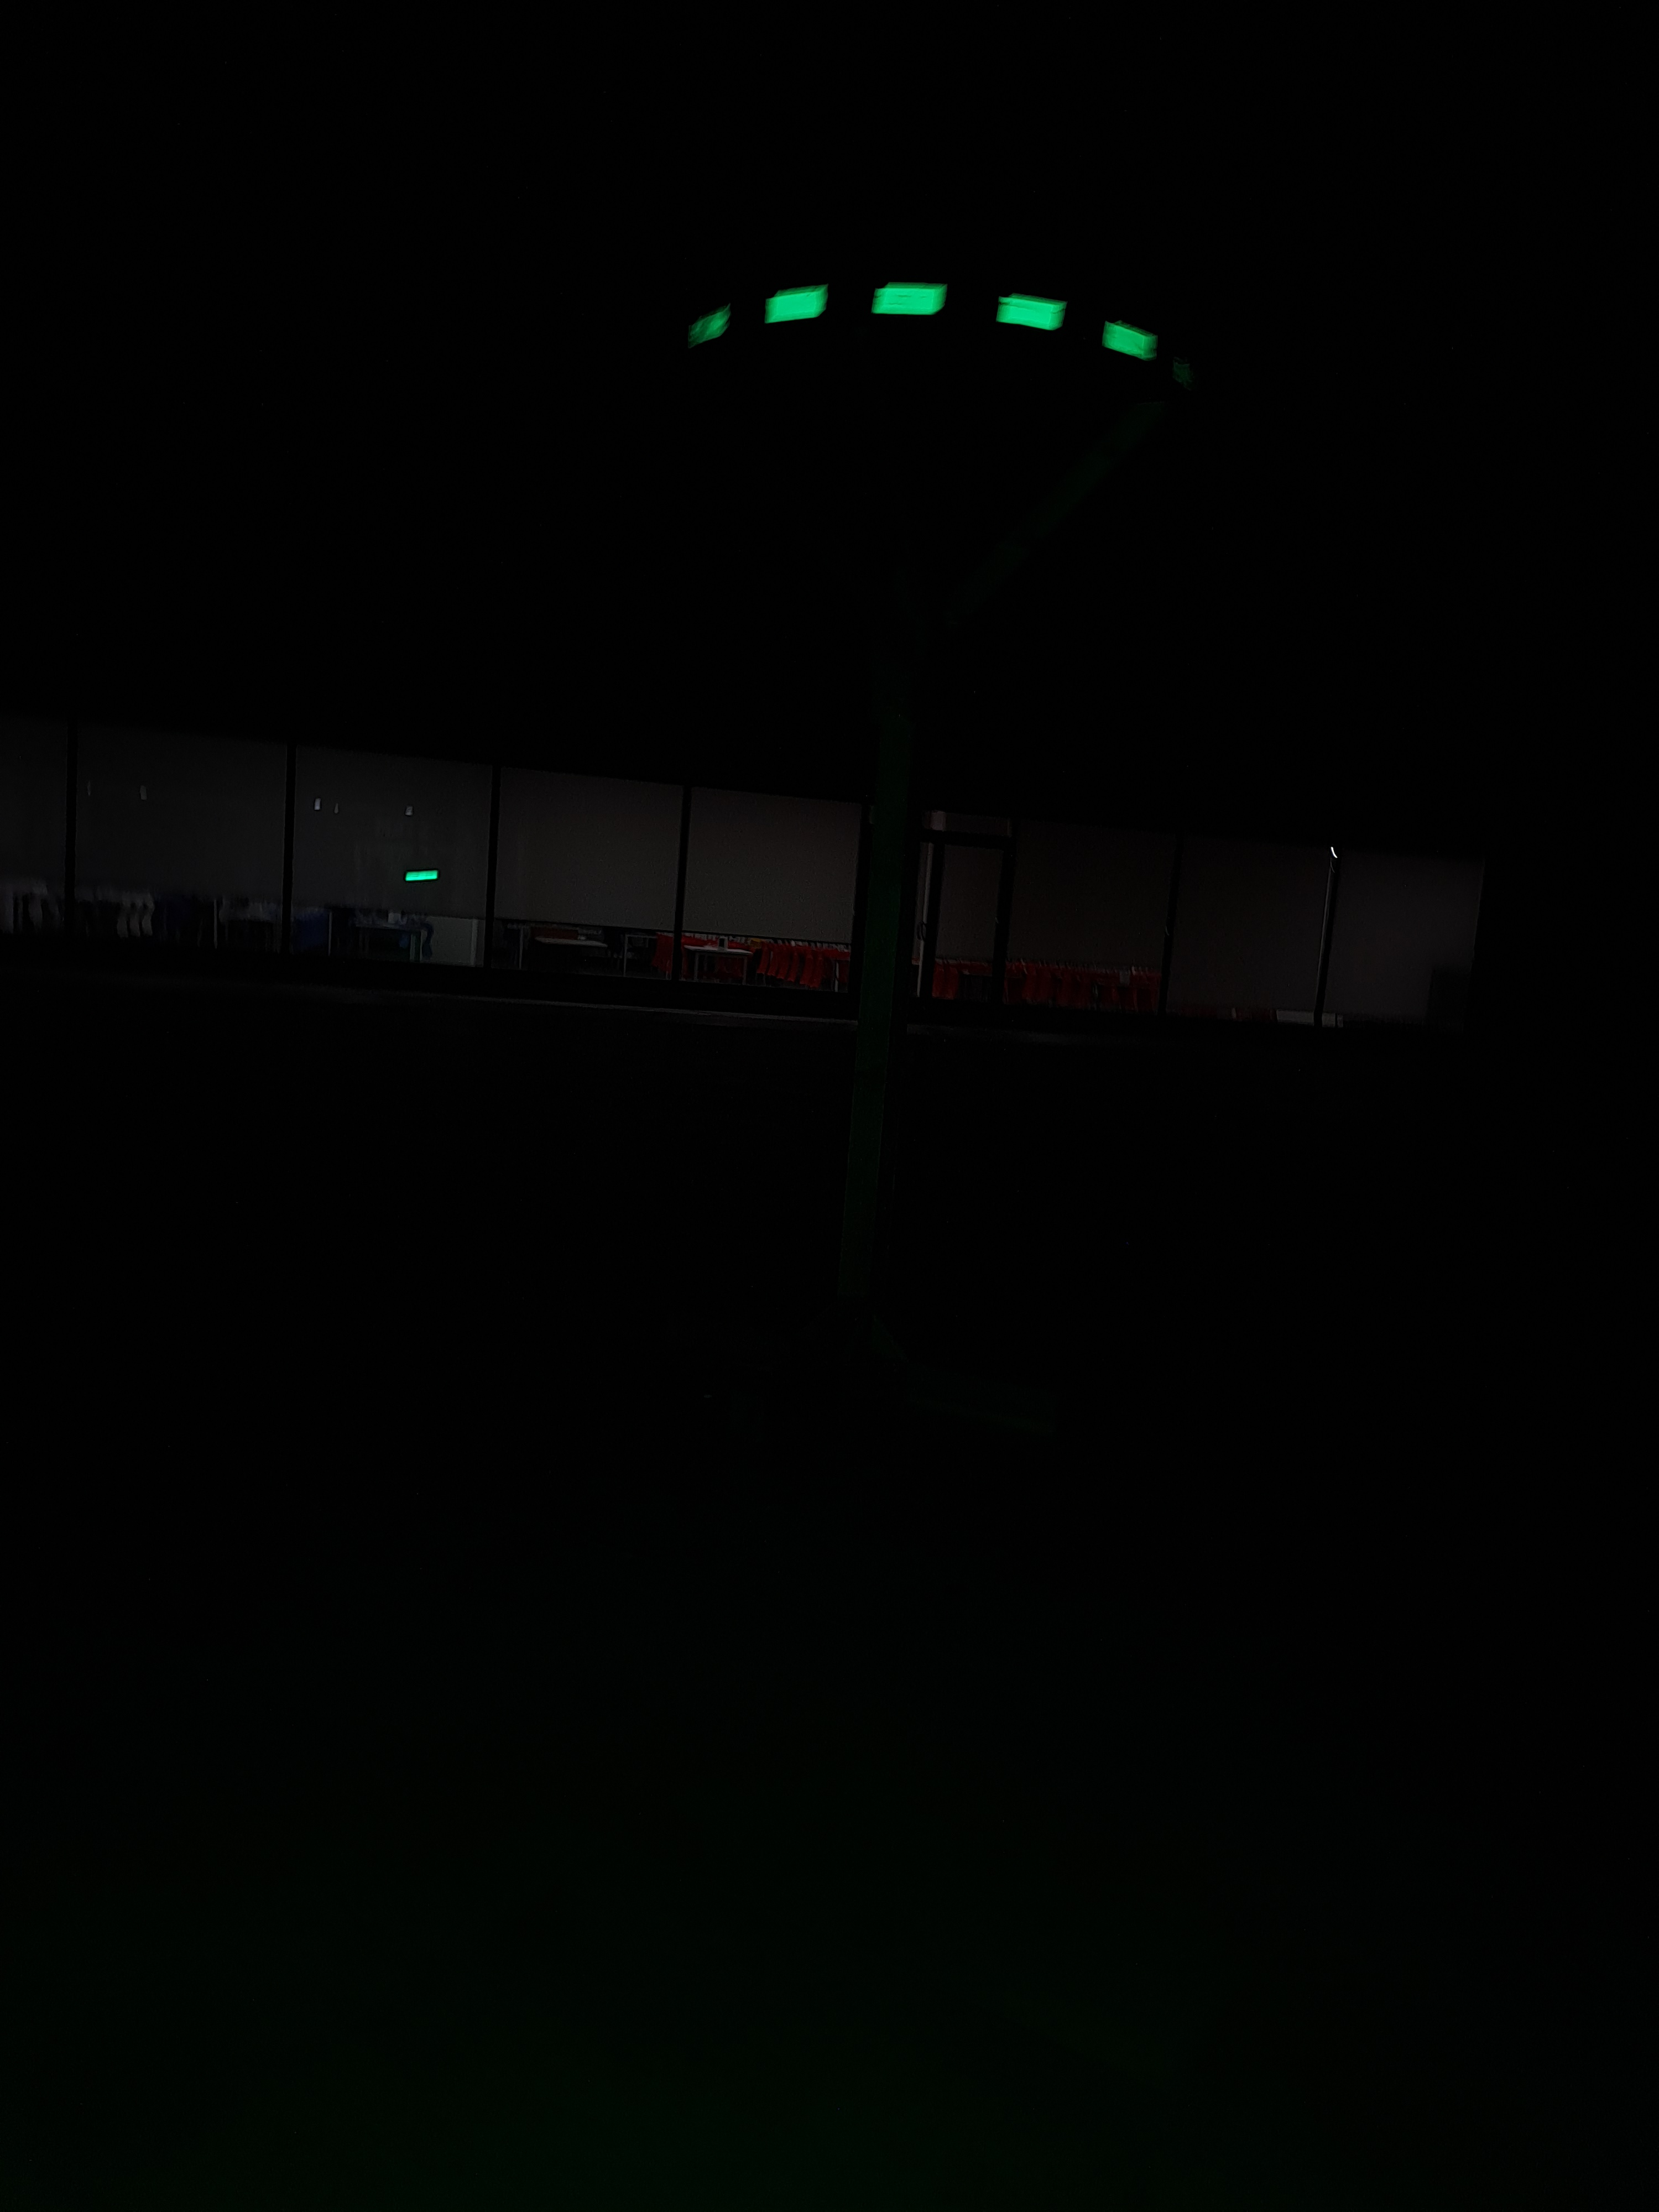hoop: (674, 275, 1164, 369)
